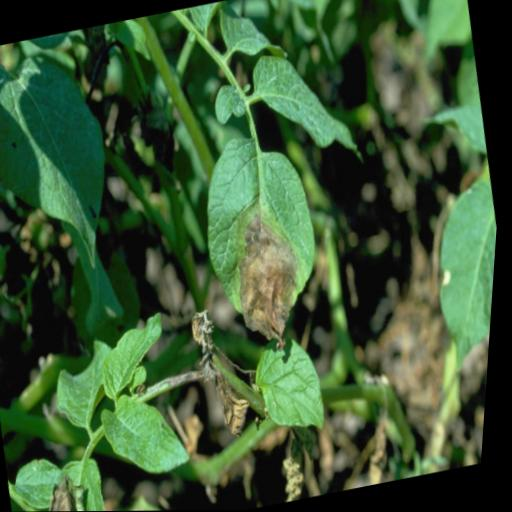Late Blight: (181, 121, 343, 368)
